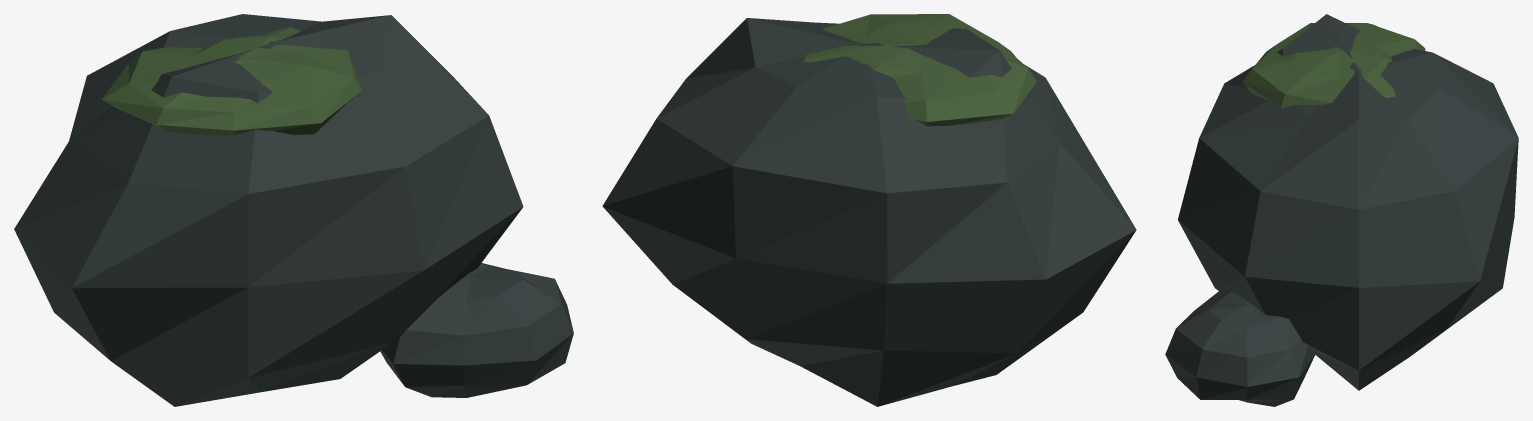
The model's file is BasaltBoulder.fbx.
The picture shows the model from 3 angles, left to right: view 1: azimuth 30°, elevation 25°; view 2: azimuth 150°, elevation 25°; view 3: azimuth 270°, elevation 25°; orthographic projection. The views are drawn at different scales.
Visible parts, largest first — view 1: BasaltBoulder; view 2: BasaltBoulder; view 3: BasaltBoulder.
Boxes of the visible parts, x1,y1,x2,y2 form: BasaltBoulder: (14, 14, 573, 406); BasaltBoulder: (602, 14, 1136, 406); BasaltBoulder: (1165, 14, 1518, 406).
Size of the model in its own units: 222 by 157 by 174.
